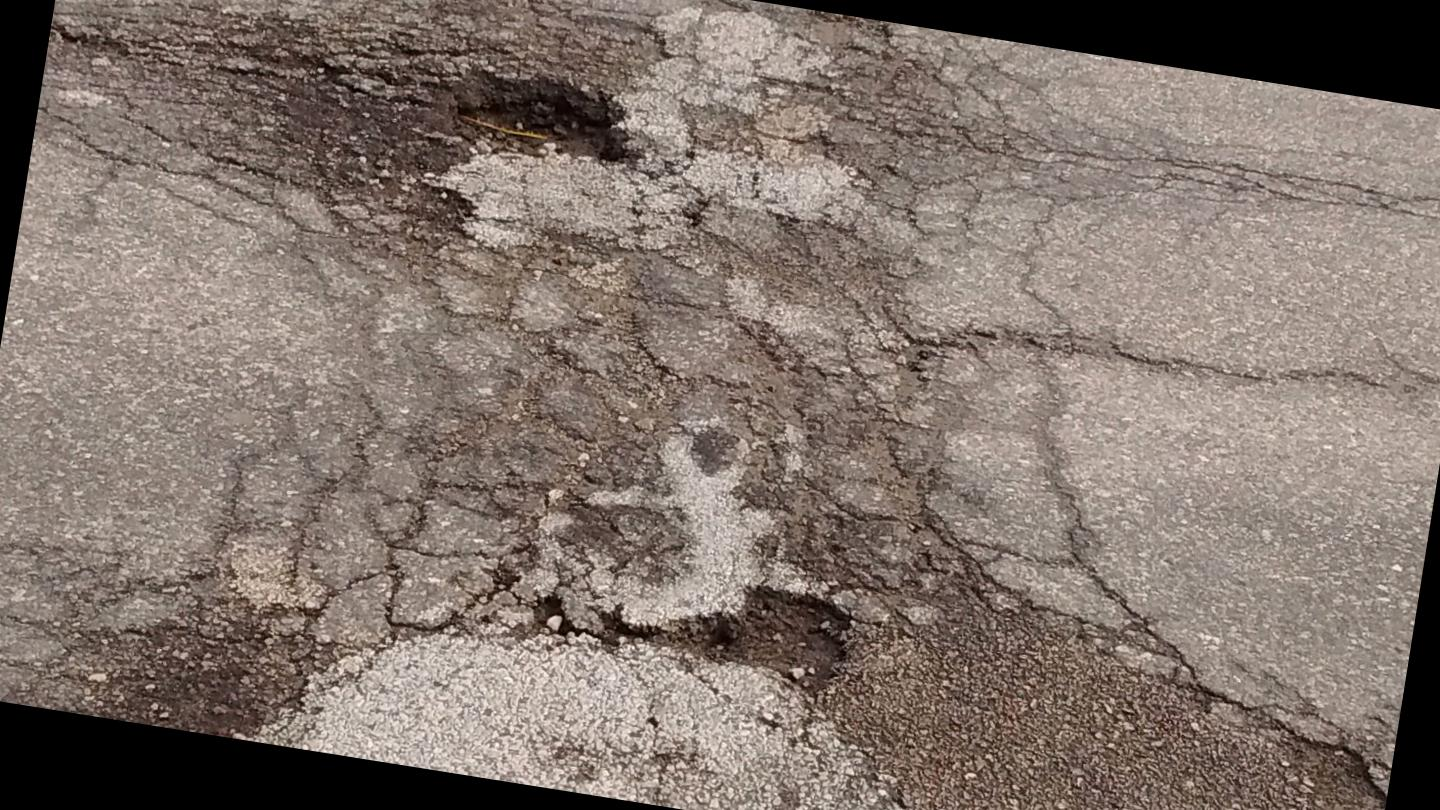pothole: (619, 524, 898, 722), (395, 38, 687, 221)
